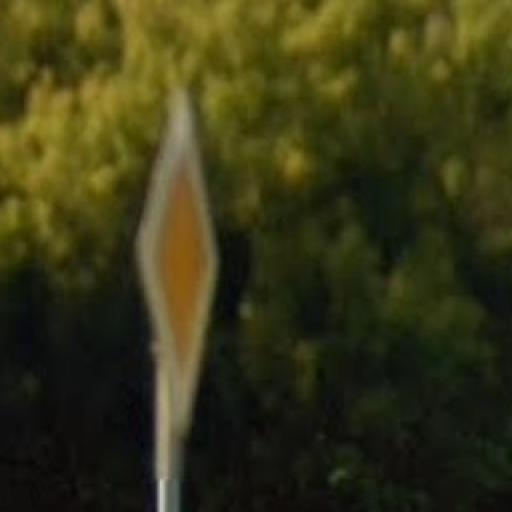traffic_sign: (132, 86, 222, 435)
